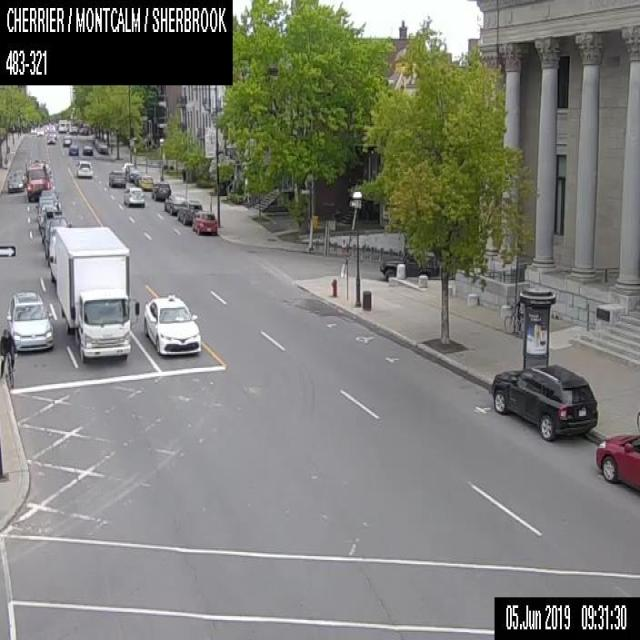bus: (57, 118, 66, 132)
cyclist: (0, 328, 15, 387)
vehicle: (56, 226, 139, 362), (490, 361, 598, 440), (143, 293, 201, 355), (6, 290, 53, 351), (595, 430, 639, 490), (379, 247, 437, 280), (42, 216, 72, 255), (26, 159, 50, 201), (177, 200, 202, 224), (192, 211, 217, 234), (163, 192, 185, 214), (123, 186, 144, 206), (151, 180, 170, 200), (6, 170, 23, 190), (75, 160, 94, 177), (108, 169, 126, 186), (138, 174, 152, 189), (133, 171, 144, 184), (82, 143, 92, 154), (98, 142, 108, 152), (68, 144, 78, 154), (46, 134, 55, 144), (63, 136, 71, 145), (48, 129, 56, 137), (36, 127, 44, 135), (29, 125, 36, 133)
